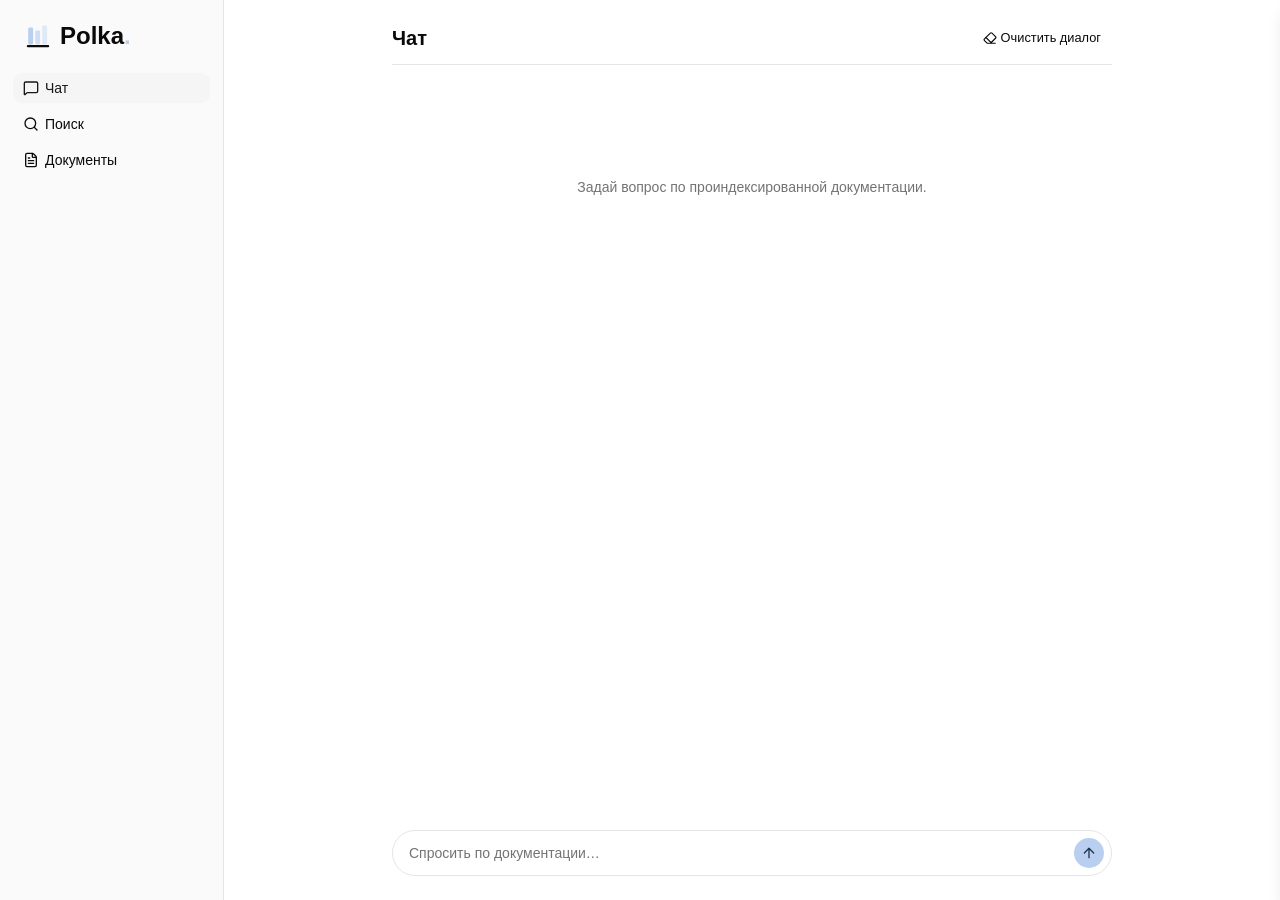
сайдбар: три раздела, переключение видимости
Expected: the button "Чат" is shown, [12,72,211,104]
Click the button "Документы" at (112, 160), box [12,144,211,176]
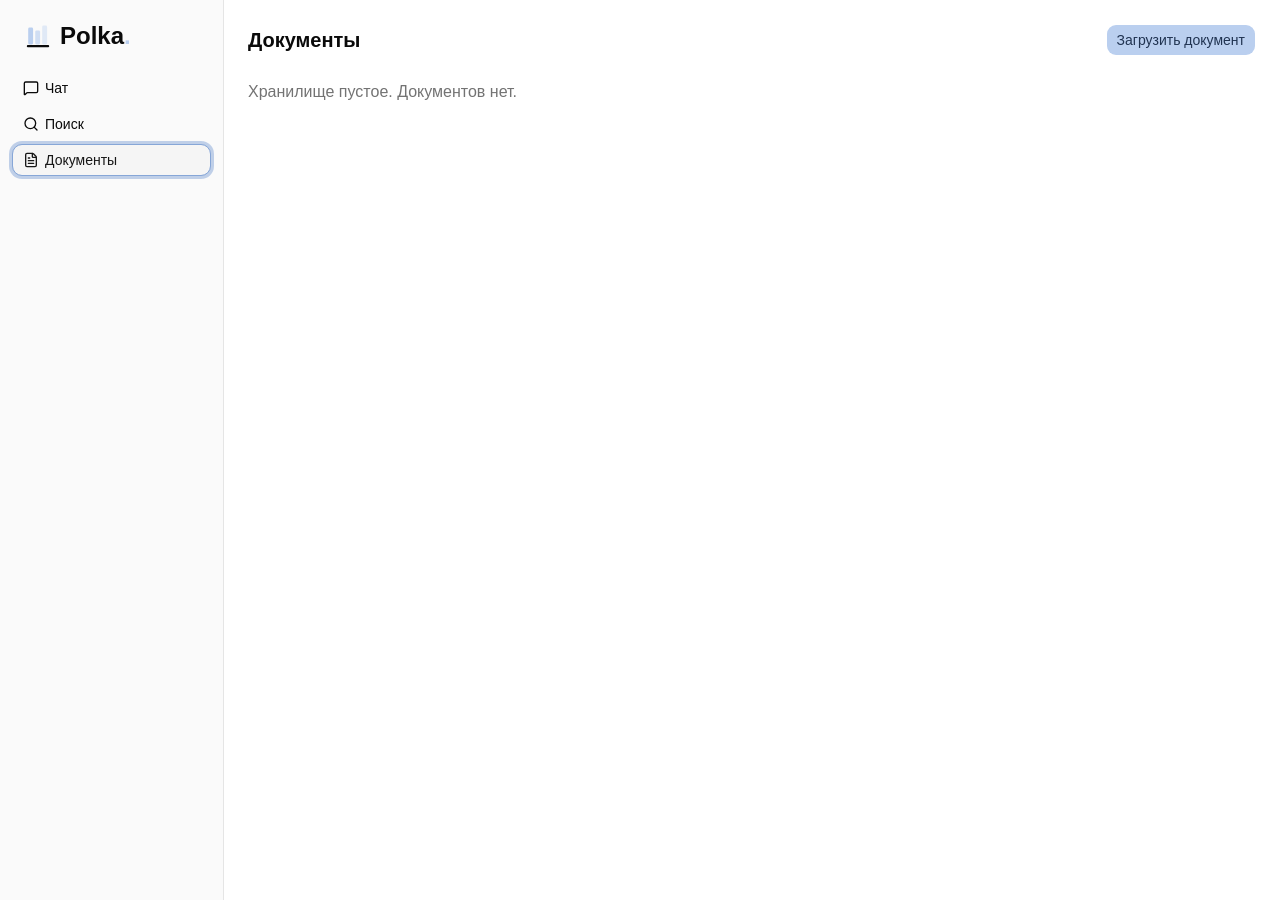
Expected: the element with test id "screen-documents" is shown, [248,24,1256,100]
Expected: the element with test id "screen-chat" is gone
